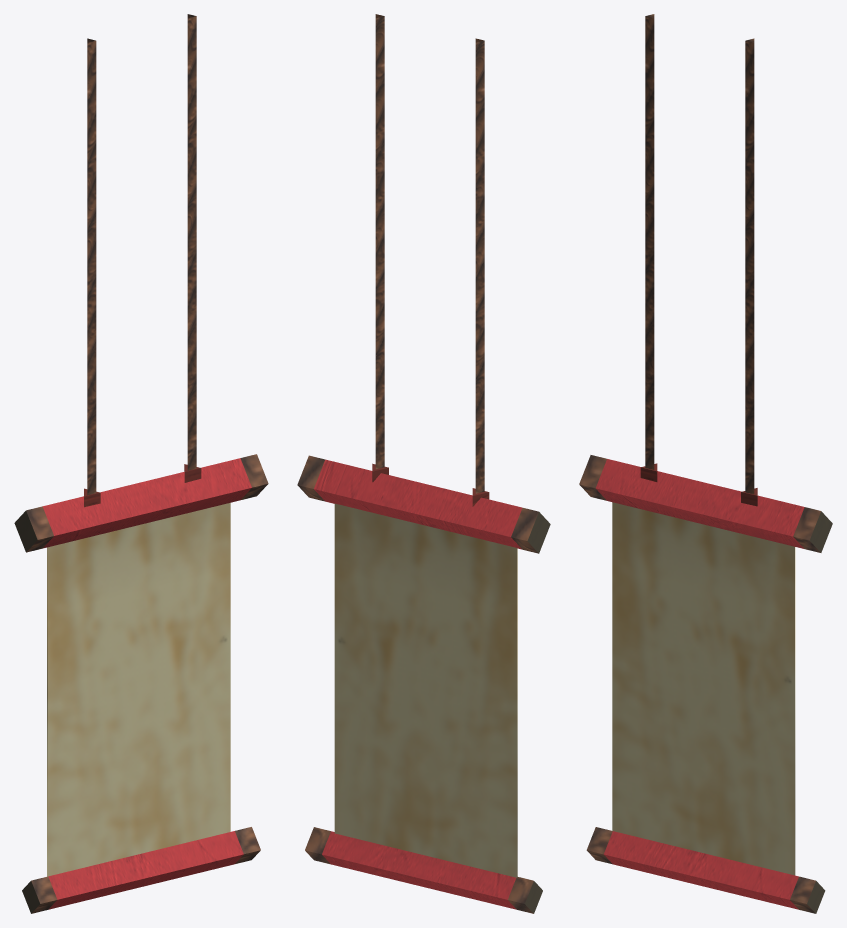
File: polygonalmind-lunar-year-038.glb
3 views of the same model, side by side, from view 1: azimuth 30°, elevation 25°; view 2: azimuth 150°, elevation 25°; view 3: azimuth 330°, elevation 25° (orthographic).
Parts seen in each view (by area): view 1: Poster02; view 2: Poster02; view 3: Poster02.
Boxes of the visible parts, <box> form: Poster02: <box>14,14,268,913</box>; Poster02: <box>297,14,550,913</box>; Poster02: <box>579,14,832,913</box>.
Size of the model in its own units: 1.61 by 5.72 by 0.2808.
Materials: 2 (2 with a texture image).
